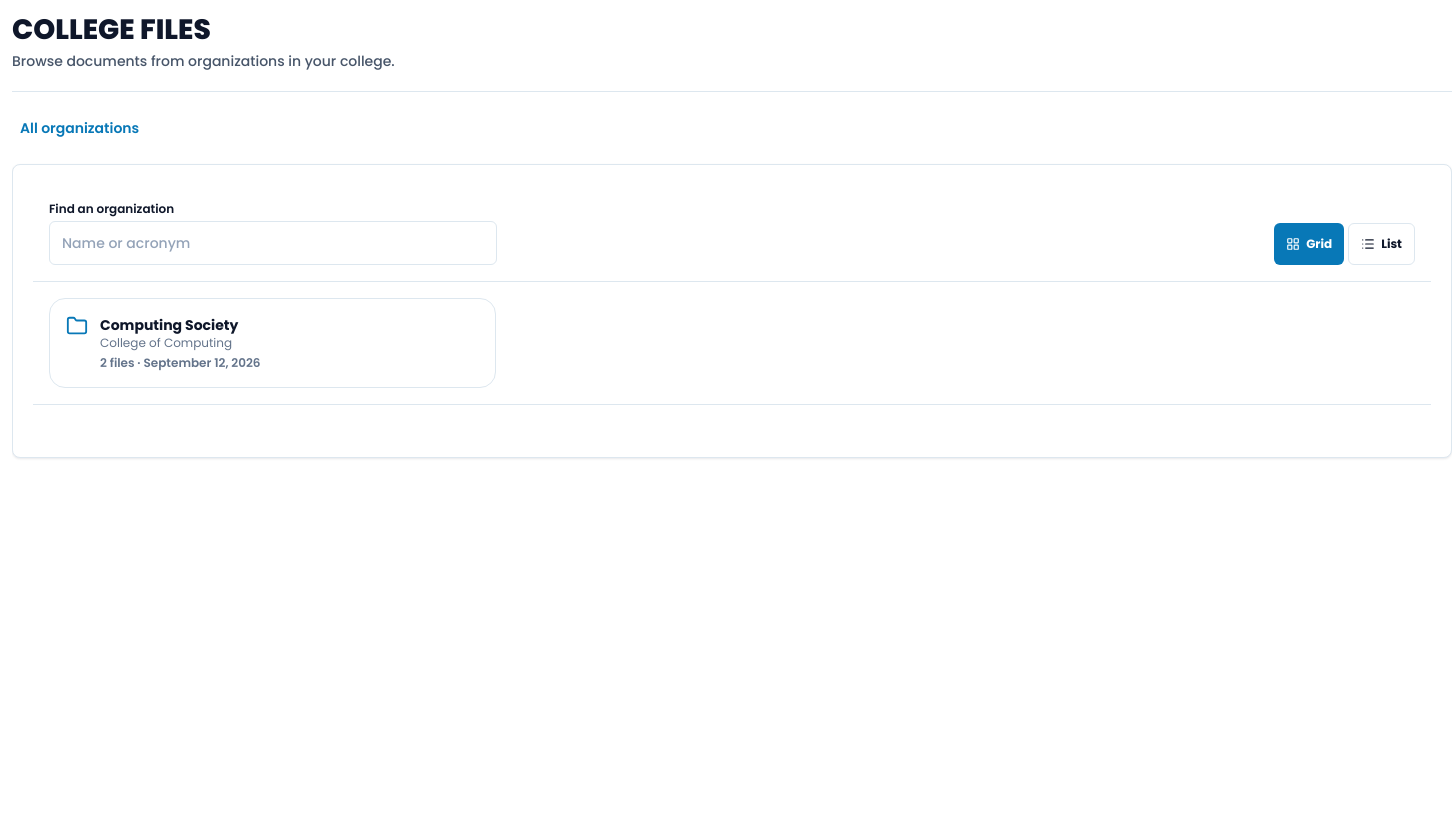
SAO submitted files › searches college files and offers scoped compliance file actions
The width and height of the screenshot is (1452, 822).
Step 1. Click the button "Computing Society" → (169, 325), box 49,298 -> 496,388
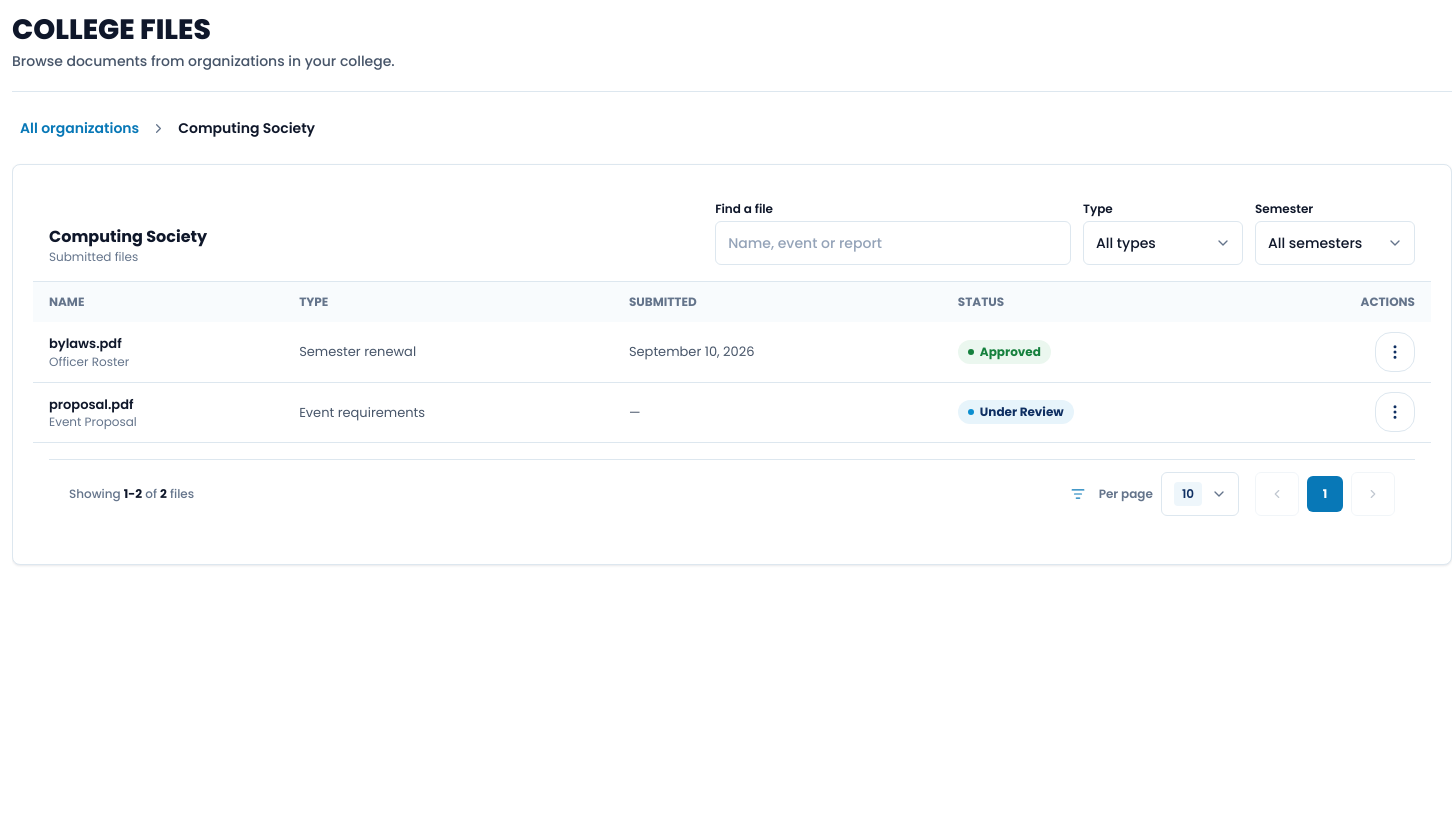
Expected: the table named "Files submitted by Computing Society" is shown, 33,282 -> 1431,442
Step 2. Type "bylaws" into the search field labelled "Find a file" → (893, 243), box 715,221 -> 1071,265
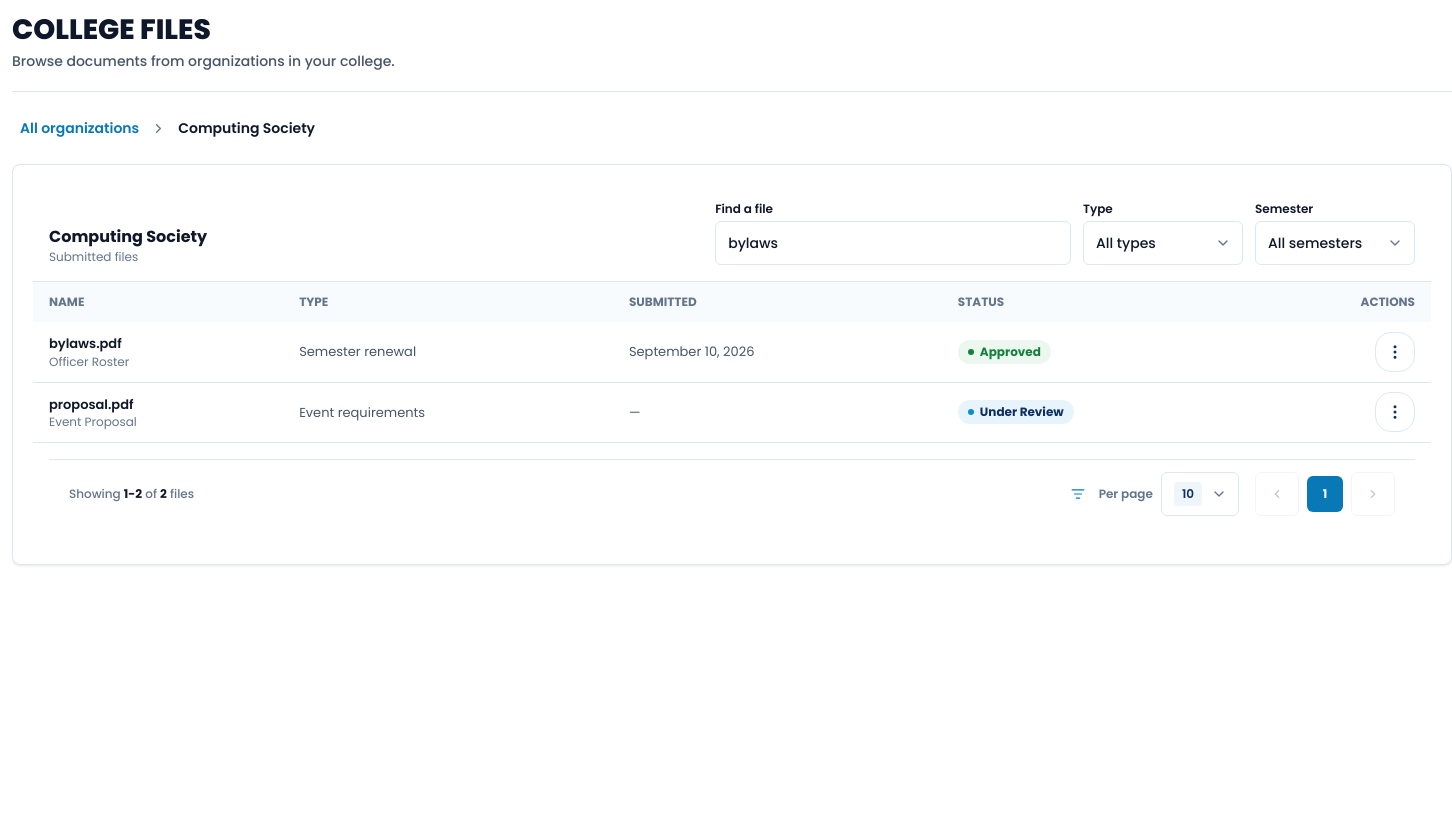
Step 3. Click the button named "Actions for bylaws.pdf" → (1395, 352), box 1375,332 -> 1415,372
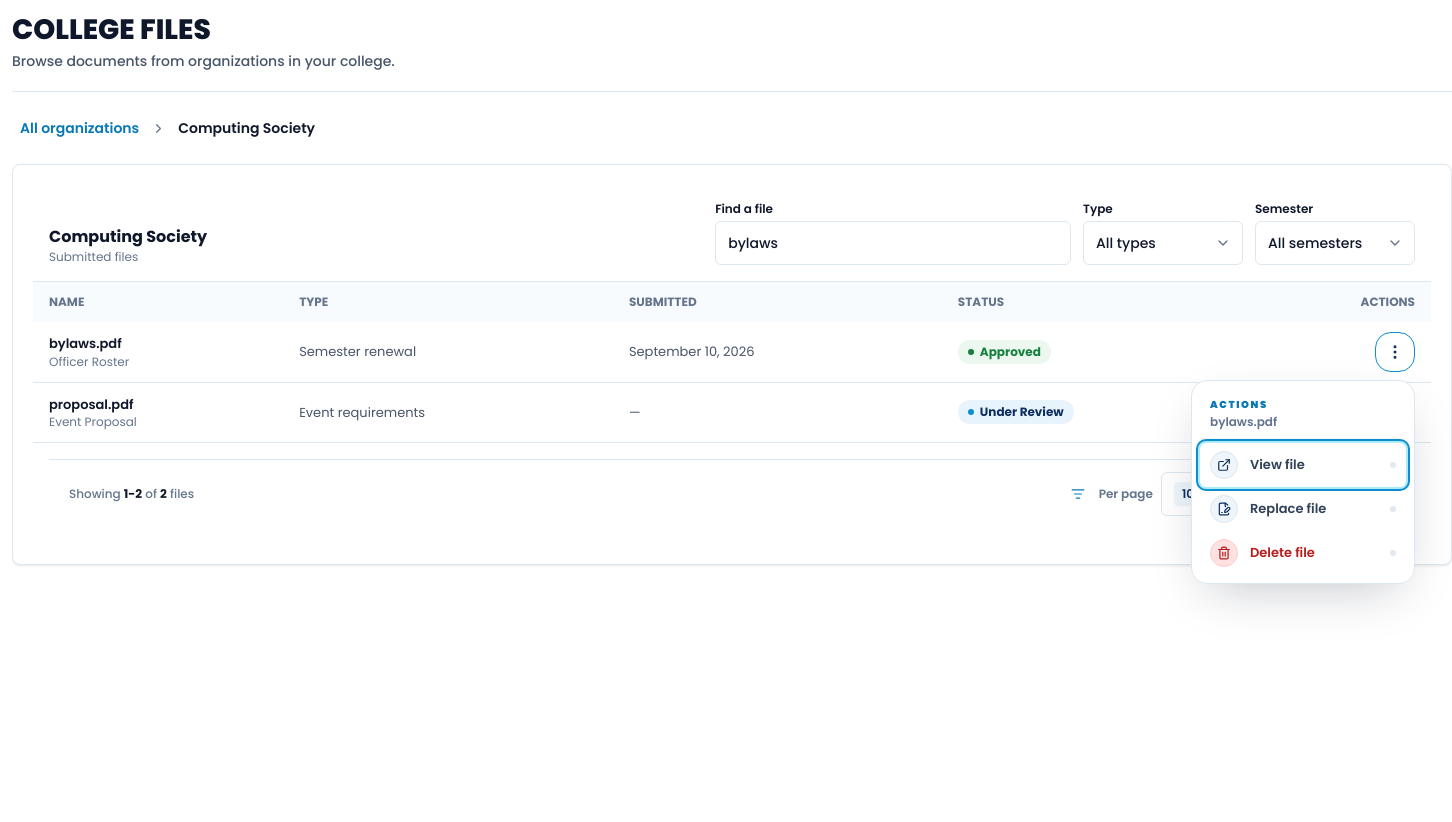
Expected: the menu item "Delete file" is shown, 1200,531 -> 1406,575
Expected: the menu item "Replace file" is shown, 1200,487 -> 1406,531
Expected: the menu item "View file" is shown, 1200,443 -> 1406,487
